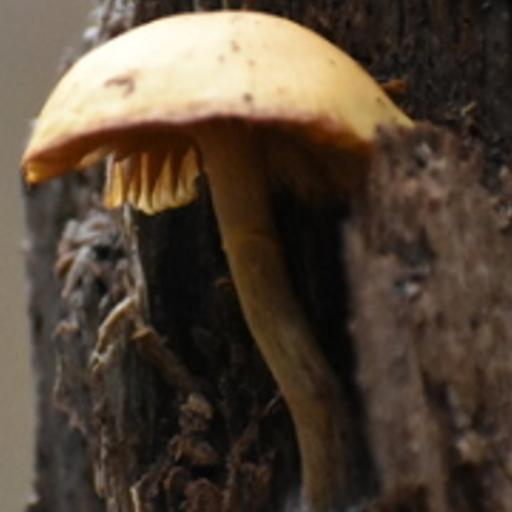mushroom: (21, 8, 413, 367)
